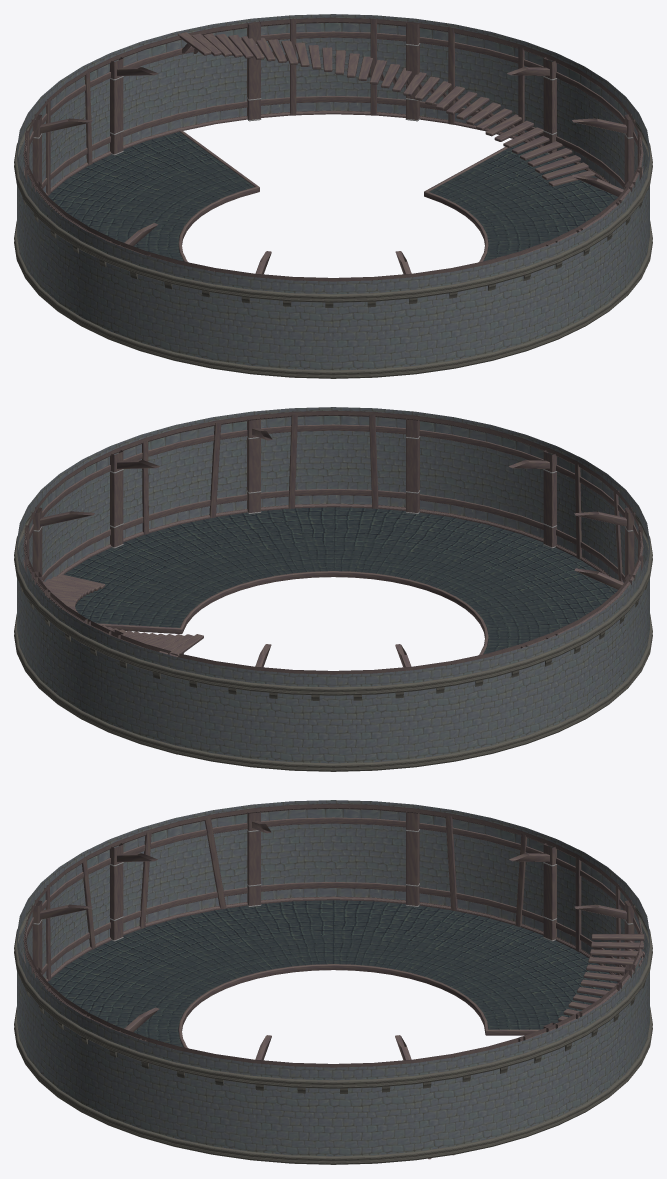
File: TowerMid.fbx
3 views of the same model, one above another, from view 1: azimuth 30°, elevation 25°; view 2: azimuth 150°, elevation 25°; view 3: azimuth 270°, elevation 25° (orthographic).
Parts seen in each view (by area): view 1: TowerMidDefaultExport; view 2: TowerMidDefaultExport; view 3: TowerMidDefaultExport.
Boxes of the visible parts, x1,y1,x2,y2 form: TowerMidDefaultExport: [14, 14, 652, 378]; TowerMidDefaultExport: [14, 407, 652, 771]; TowerMidDefaultExport: [14, 800, 652, 1164].
Size of the model in its own units: 4947 by 860 by 4947.
